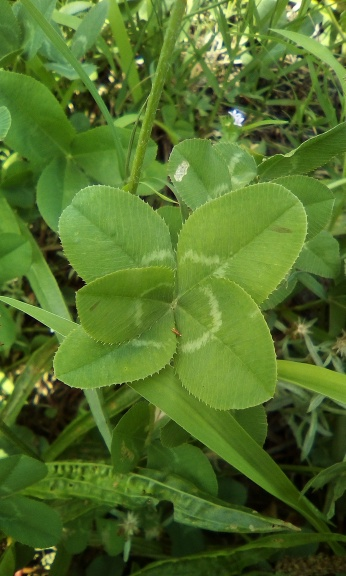4leaf: (51, 180, 310, 412)
